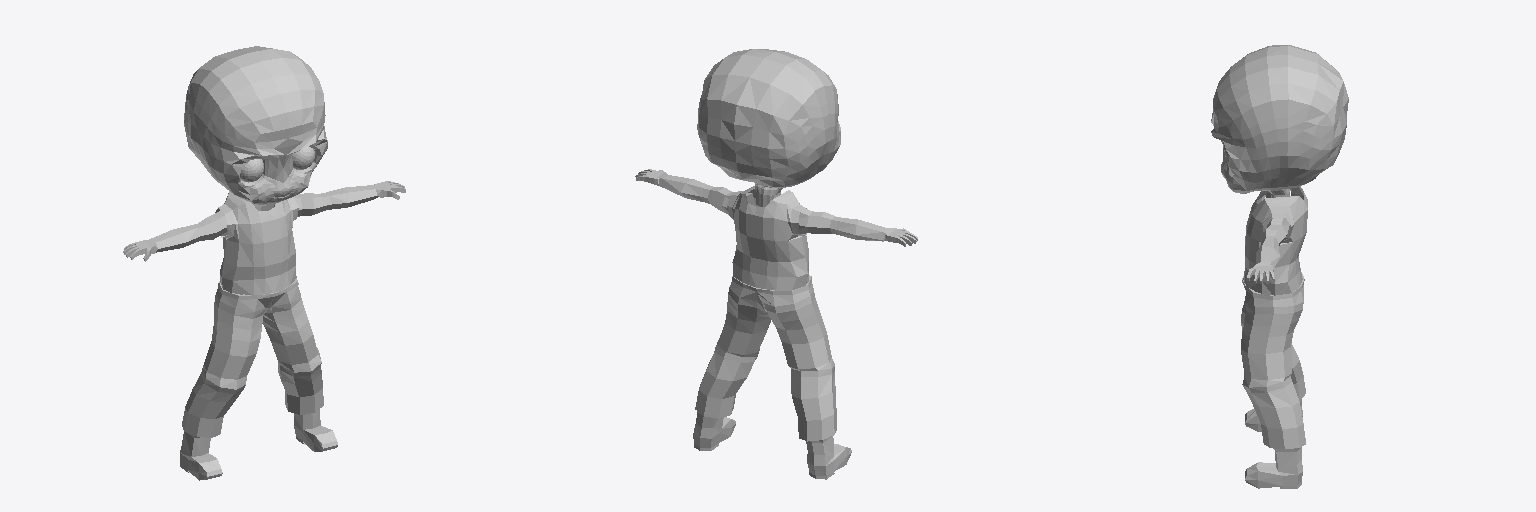
The model's file is satan_bien.obj.
3 renders of one model, left to right at view 1: azimuth 30°, elevation 25°; view 2: azimuth 150°, elevation 25°; view 3: azimuth 270°, elevation 25°, orthographic.
Visible parts, largest first — view 1: group1 cabesa, group1 ChibiBase:Pants, group1 ChibiBase:Shirt, group1 Arm_d, group1 ChibiBase:Arm_Left, group1 Boot_Left, ChibiBase:Boot_Left group1; view 2: group1 cabesa, group1 ChibiBase:Pants, group1 ChibiBase:Shirt, group1 Arm_d, group1 ChibiBase:Arm_Left, group1 Boot_Left, ChibiBase:Boot_Left group1; view 3: group1 cabesa, group1 ChibiBase:Pants, group1 ChibiBase:Shirt, ChibiBase:Boot_Left group1, group1 ChibiBase:Arm_Left.
Boxes of the visible parts, <box> form: group1 cabesa: <box>184,46,327,207</box>; group1 ChibiBase:Pants: <box>182,278,323,437</box>; group1 ChibiBase:Shirt: <box>215,191,298,294</box>; group1 Arm_d: <box>123,210,227,261</box>; group1 ChibiBase:Arm_Left: <box>274,181,405,216</box>; group1 Boot_Left: <box>180,432,222,480</box>; ChibiBase:Boot_Left group1: <box>294,409,337,451</box>; group1 cabesa: <box>697,49,840,206</box>; group1 ChibiBase:Pants: <box>695,275,836,441</box>; group1 ChibiBase:Shirt: <box>727,186,808,290</box>; group1 Arm_d: <box>799,209,917,246</box>; group1 ChibiBase:Arm_Left: <box>635,169,753,214</box>; group1 Boot_Left: <box>806,436,851,479</box>; ChibiBase:Boot_Left group1: <box>693,411,735,450</box>; group1 cabesa: <box>1211,45,1348,197</box>; group1 ChibiBase:Pants: <box>1241,272,1305,448</box>; group1 ChibiBase:Shirt: <box>1243,186,1307,295</box>; ChibiBase:Boot_Left group1: <box>1245,447,1302,488</box>; group1 ChibiBase:Arm_Left: <box>1247,218,1289,283</box>.
Bounding box in the file's own units: 7.91 × 10.91 × 3.39.